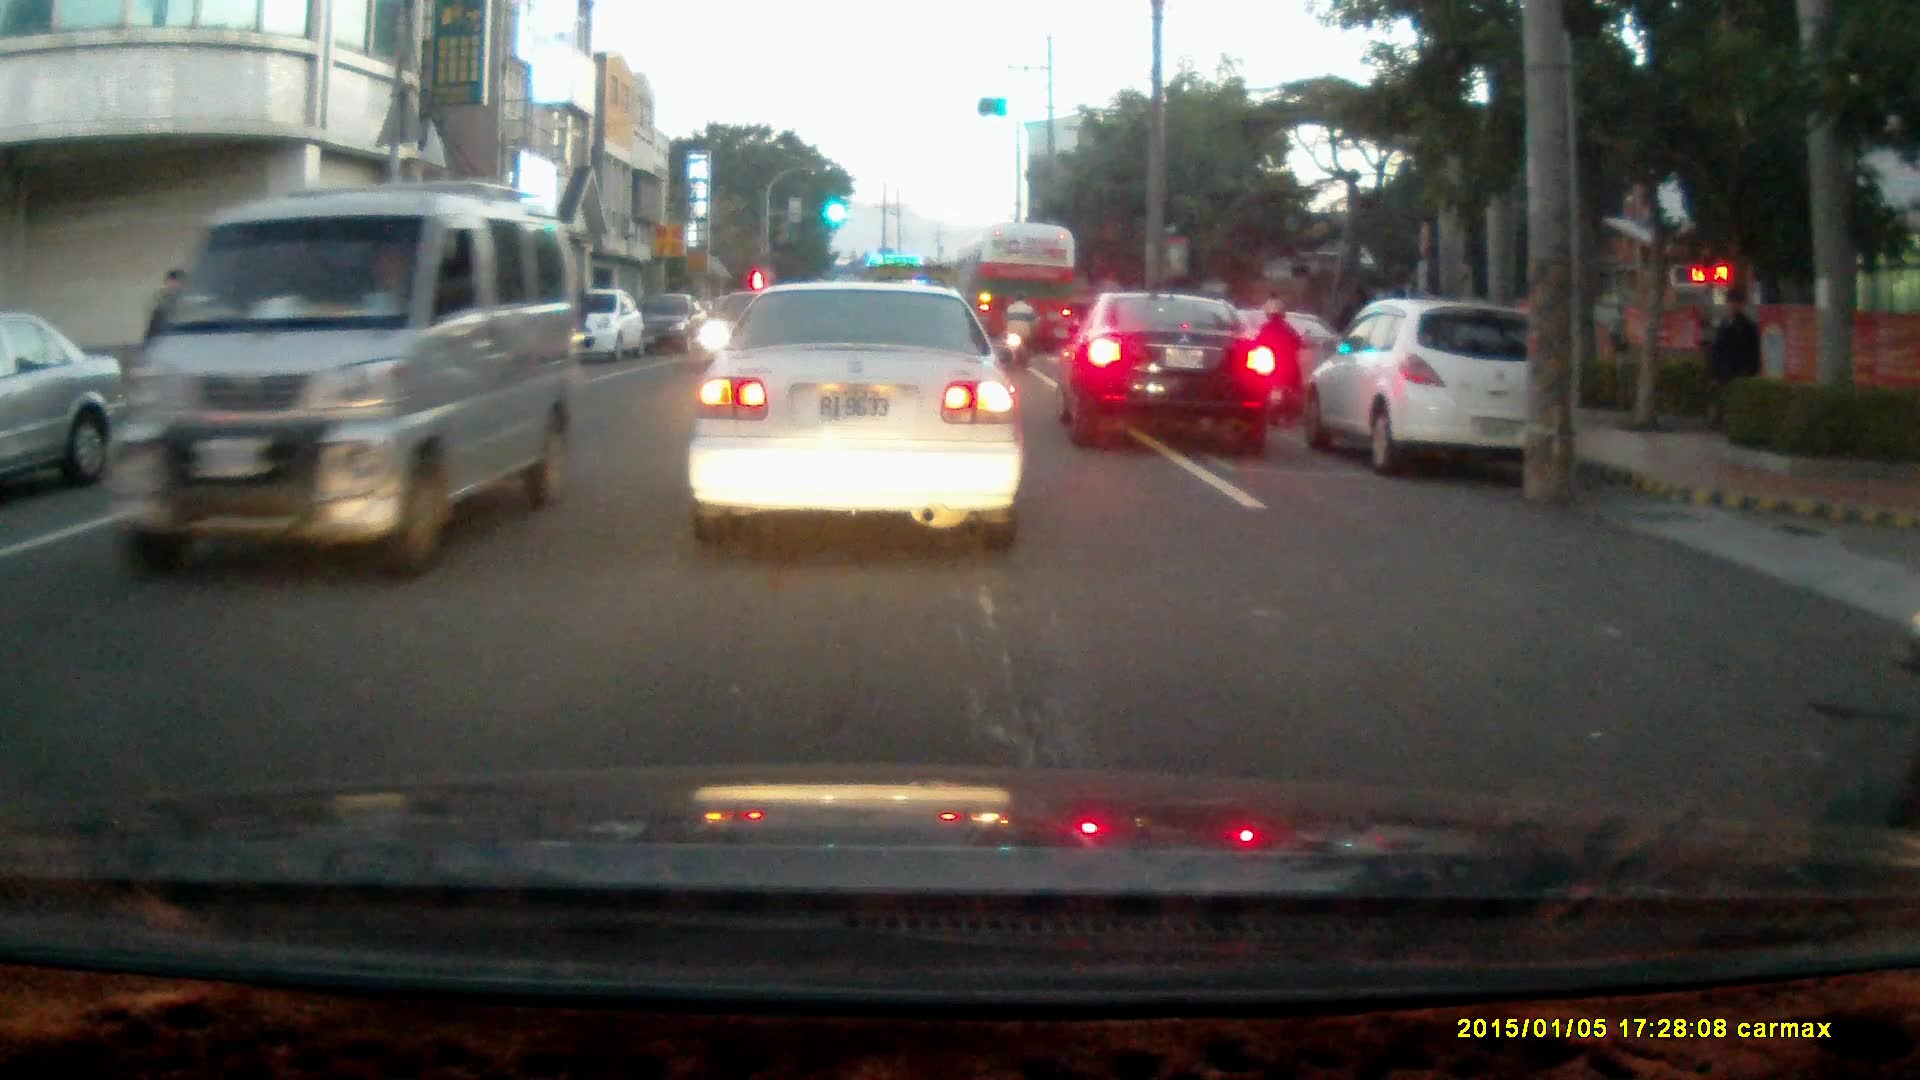pedestrian: (1706, 287, 1764, 445)
rider: (1256, 298, 1311, 430), (999, 290, 1041, 373)
vehicle: (111, 184, 583, 579), (682, 281, 1028, 554), (1297, 296, 1572, 482), (1058, 293, 1283, 457), (1, 309, 124, 501), (967, 222, 1081, 360), (548, 288, 642, 363)
